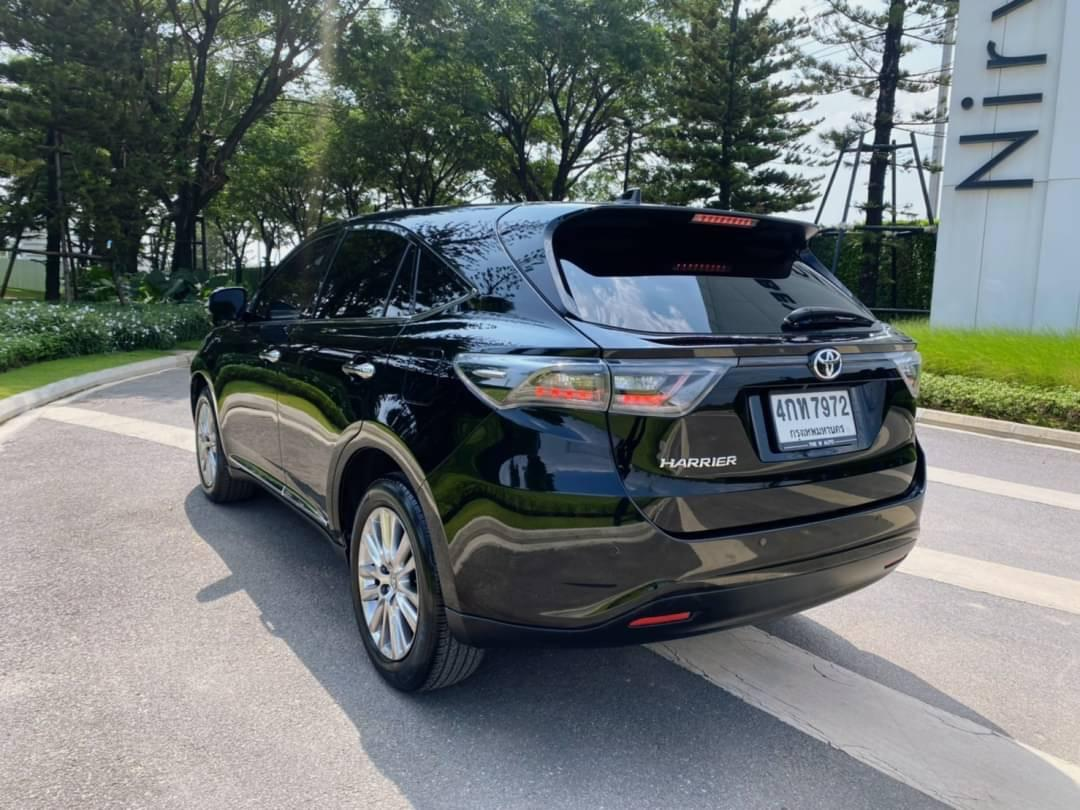license-plate: (761, 386, 862, 455)
